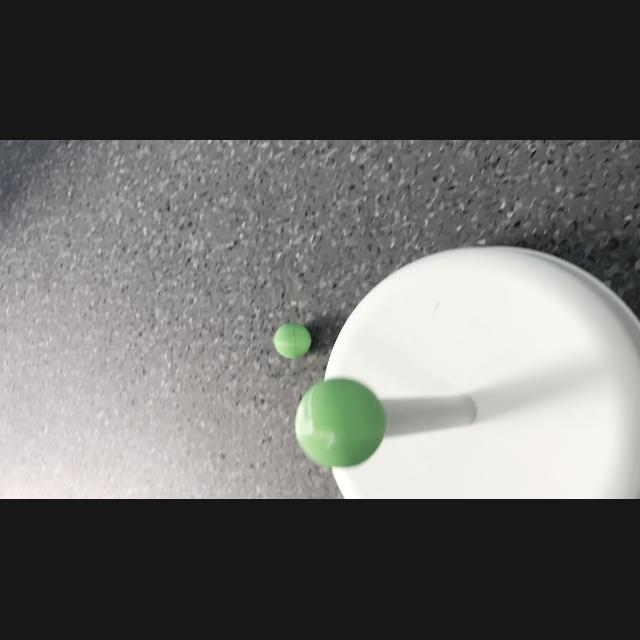objects: (292, 373, 391, 473), (269, 318, 317, 367)
